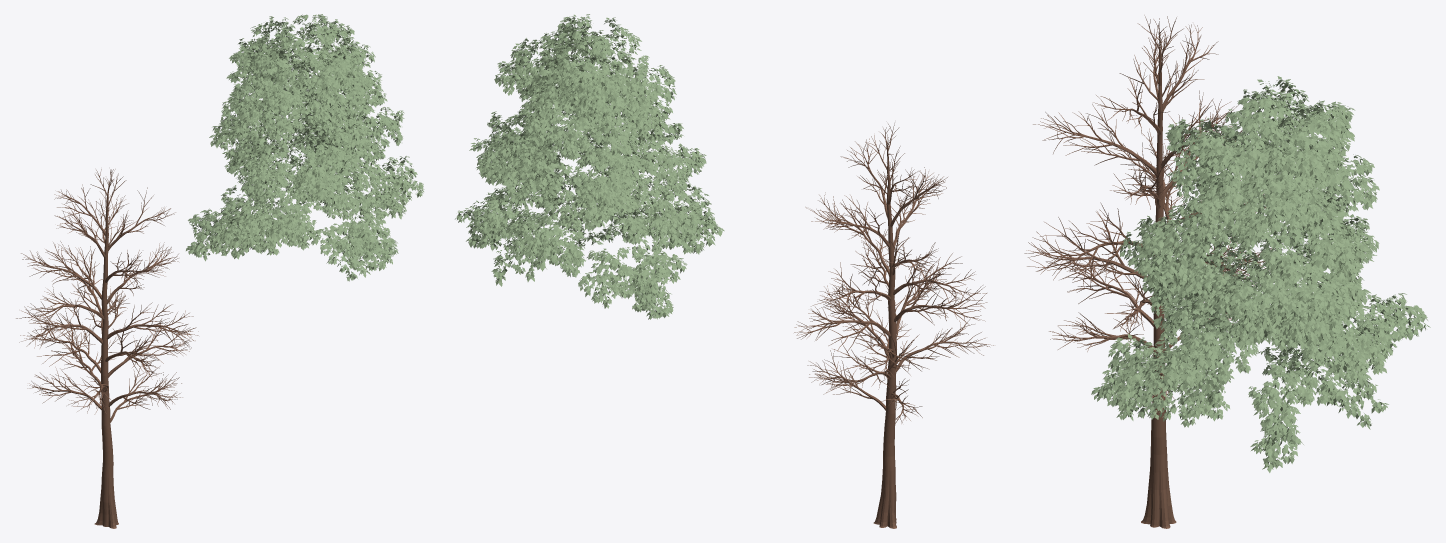
File: lujiazui-28.glb
3 views of the same model, side by side, from view 1: azimuth 30°, elevation 25°; view 2: azimuth 150°, elevation 25°; view 3: azimuth 270°, elevation 25° (orthographic). The views are drawn at different scales.
Visible parts, largest first — view 1: source_4857_leaf_summer_1_part1, source_4858_bark_part0; view 2: source_4857_leaf_summer_1_part1, source_4858_bark_part0; view 3: source_4857_leaf_summer_1_part1, source_4858_bark_part0.
Boxes of the visible parts, <box> form: source_4857_leaf_summer_1_part1: <box>186,14,424,281</box>; source_4858_bark_part0: <box>16,169,198,528</box>; source_4857_leaf_summer_1_part1: <box>455,14,724,319</box>; source_4858_bark_part0: <box>794,123,993,528</box>; source_4857_leaf_summer_1_part1: <box>1091,76,1430,472</box>; source_4858_bark_part0: <box>1024,15,1271,528</box>.
Bounding box in the file's own units: 14.08 × 13.36 × 8.17.
